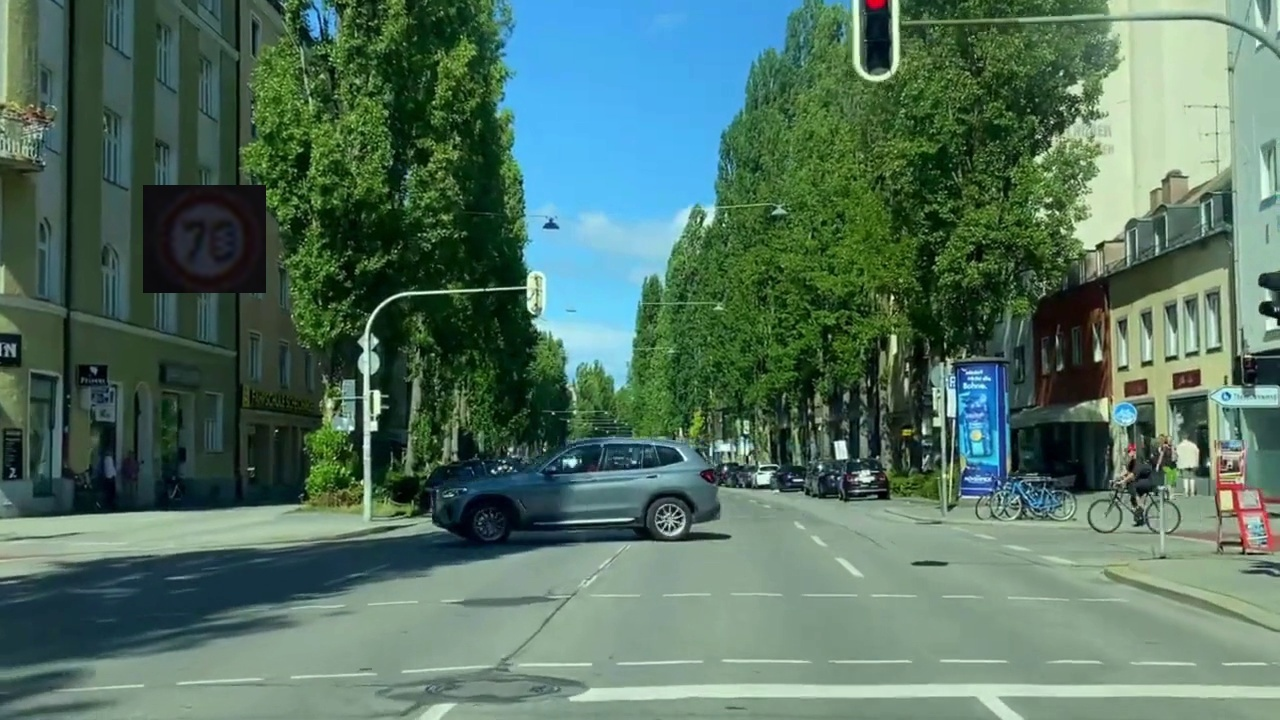Speed 70: (143, 185, 266, 293)
